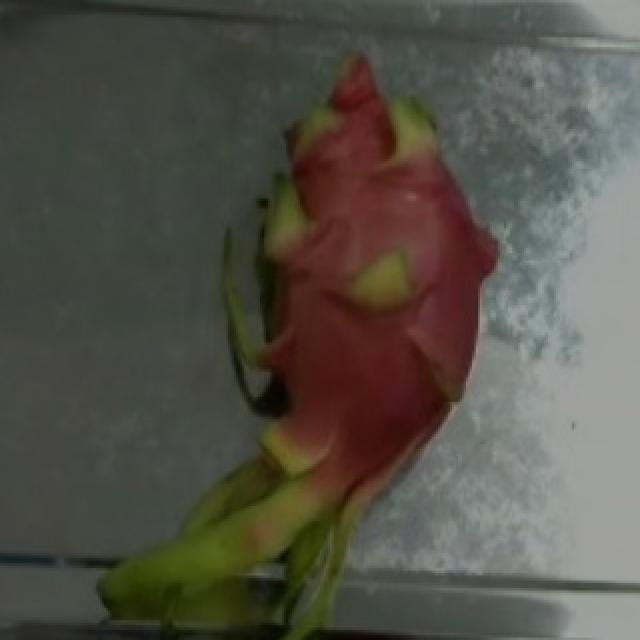fruit: (140, 37, 530, 481)
